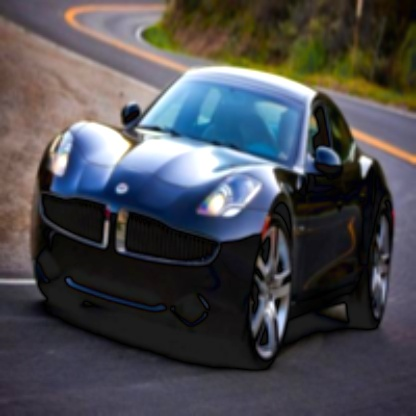Vehicle: (30, 65, 397, 372)
